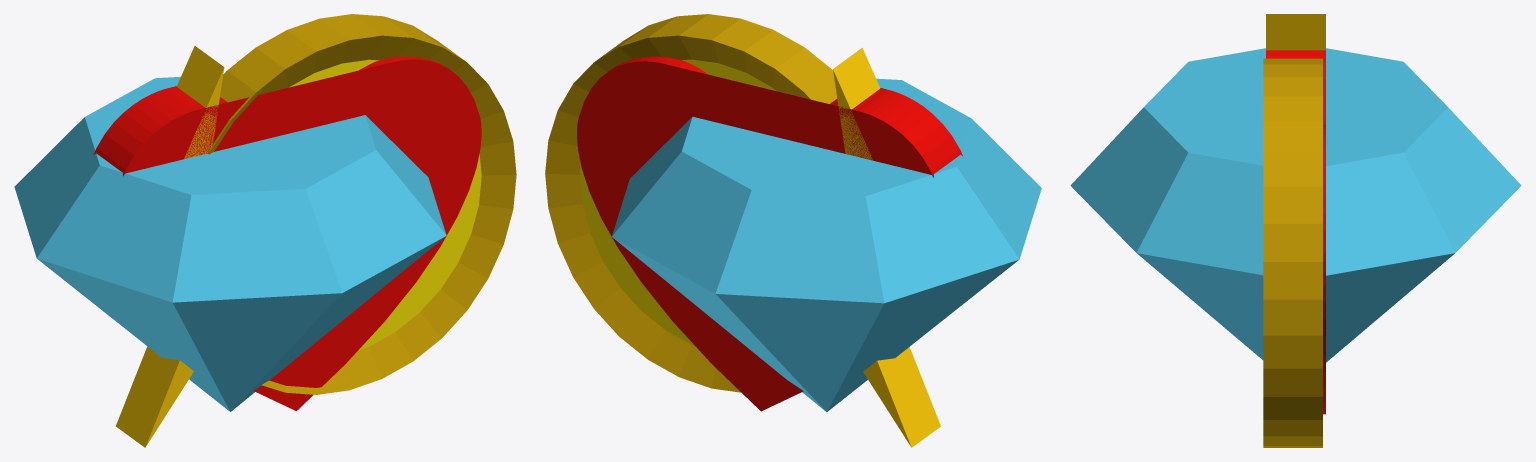
Rendered from collectables.fbx.
3 renders of one model, left to right at view 1: azimuth 30°, elevation 25°; view 2: azimuth 150°, elevation 25°; view 3: azimuth 270°, elevation 25°, orthographic.
Parts seen in each view (by area): view 1: diamond, heart, coin, light; view 2: diamond, heart, coin, light; view 3: diamond, coin, light, heart.
Part boxes in pixels (box(x1,y1,x2,y2)): diamond: box(14, 76, 446, 411); heart: box(93, 56, 481, 411); coin: box(207, 14, 516, 394); light: box(116, 46, 224, 447); diamond: box(612, 78, 1041, 411); heart: box(577, 56, 962, 411); coin: box(545, 14, 837, 392); light: box(833, 47, 940, 447); diamond: box(1070, 48, 1521, 362); coin: box(1263, 58, 1322, 447); light: box(1266, 14, 1325, 50); heart: box(1266, 50, 1325, 414).
Size of the model in its own units: 181 by 135 by 151.
